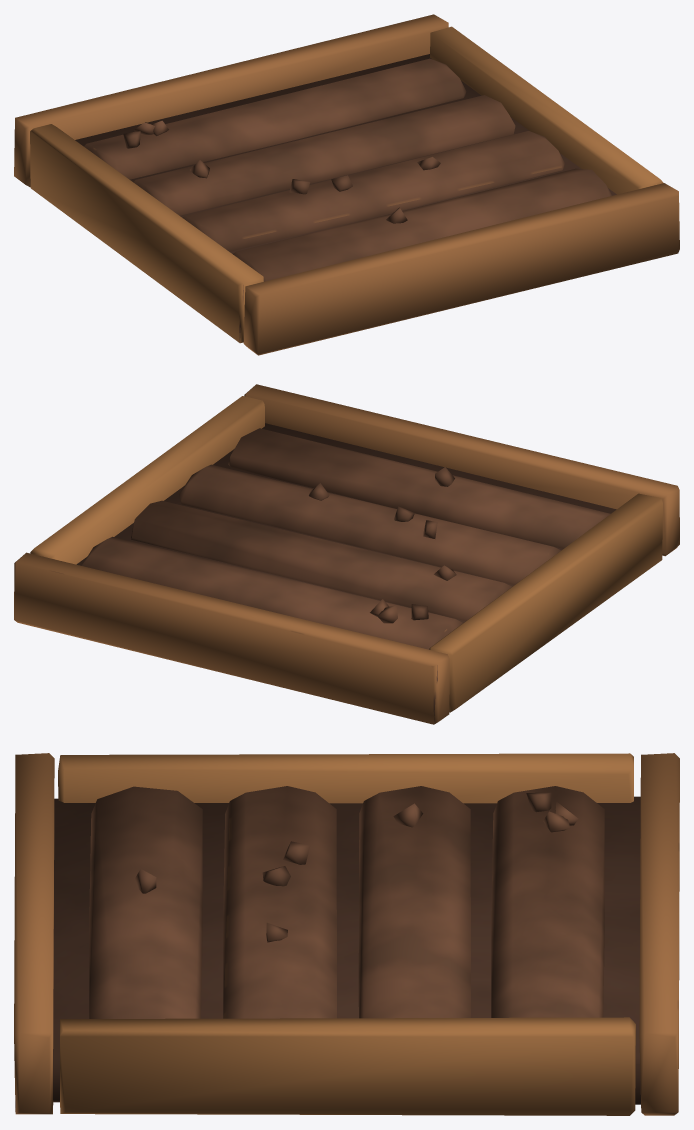
Rendered from crop_wheat_0.glb.
3 renders of one model, top to bottom at view 1: azimuth 30°, elevation 25°; view 2: azimuth 150°, elevation 25°; view 3: azimuth 270°, elevation 25°, orthographic. The views are drawn at different scales.
Visible parts, largest first — view 1: bed; view 2: bed; view 3: bed.
Part boxes in pixels (x1=…): bed: x1=14, y1=14, x2=679, y2=355; bed: x1=14, y1=384, x2=679, y2=724; bed: x1=14, y1=753, x2=679, y2=1115.
Bounding box in the file's own units: 1.49 × 0.2311 × 1.49.
1 material, 1 textured.
